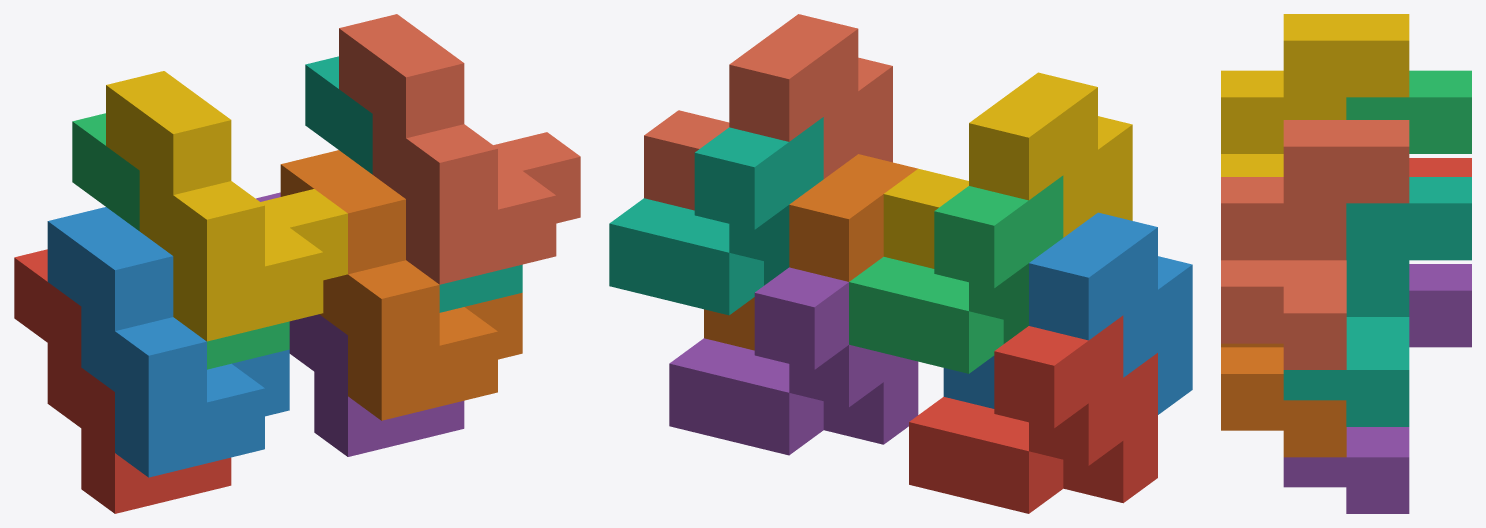
The model's file is tiling.obj.
3 views of the same model, side by side, from view 1: azimuth 30°, elevation 25°; view 2: azimuth 150°, elevation 25°; view 3: azimuth 270°, elevation 25° (orthographic). The views are drawn at different scales.
Parts seen in each view (by area): view 1: copy_1_domain_4, copy_1_domain_8, copy_1_domain_2, copy_1_domain_6, copy_1_domain_1, copy_1_domain_5, copy_1_domain_7, copy_1_domain_3; view 2: copy_1_domain_1, copy_1_domain_5, copy_1_domain_7, copy_1_domain_3, copy_1_domain_4, copy_1_domain_8, copy_1_domain_2, copy_1_domain_6; view 3: copy_1_domain_8, copy_1_domain_7, copy_1_domain_4, copy_1_domain_5, copy_1_domain_6, copy_1_domain_3, copy_1_domain_1.
Boxes of the visible parts, bbox=[...] form: copy_1_domain_4: bbox=[106, 71, 347, 341]; copy_1_domain_8: bbox=[339, 14, 580, 284]; copy_1_domain_2: bbox=[47, 207, 289, 477]; copy_1_domain_6: bbox=[280, 150, 522, 420]; copy_1_domain_1: bbox=[14, 249, 231, 513]; copy_1_domain_5: bbox=[256, 192, 464, 456]; copy_1_domain_7: bbox=[305, 56, 522, 312]; copy_1_domain_3: bbox=[72, 113, 289, 369]; copy_1_domain_1: bbox=[909, 315, 1157, 513]; copy_1_domain_5: bbox=[669, 267, 918, 455]; copy_1_domain_7: bbox=[609, 117, 823, 315]; copy_1_domain_3: bbox=[849, 175, 1063, 373]; copy_1_domain_4: bbox=[883, 72, 1132, 268]; copy_1_domain_8: bbox=[644, 14, 892, 210]; copy_1_domain_2: bbox=[943, 212, 1192, 414]; copy_1_domain_6: bbox=[704, 154, 917, 350]; copy_1_domain_8: bbox=[1221, 120, 1409, 369]; copy_1_domain_7: bbox=[1283, 177, 1471, 426]; copy_1_domain_4: bbox=[1221, 14, 1409, 176]; copy_1_domain_5: bbox=[1283, 264, 1471, 513]; copy_1_domain_6: bbox=[1221, 343, 1346, 457]; copy_1_domain_3: bbox=[1346, 70, 1471, 153]; copy_1_domain_1: bbox=[1409, 158, 1471, 176].
Size of the model in its own units: 8 by 6 by 4.
